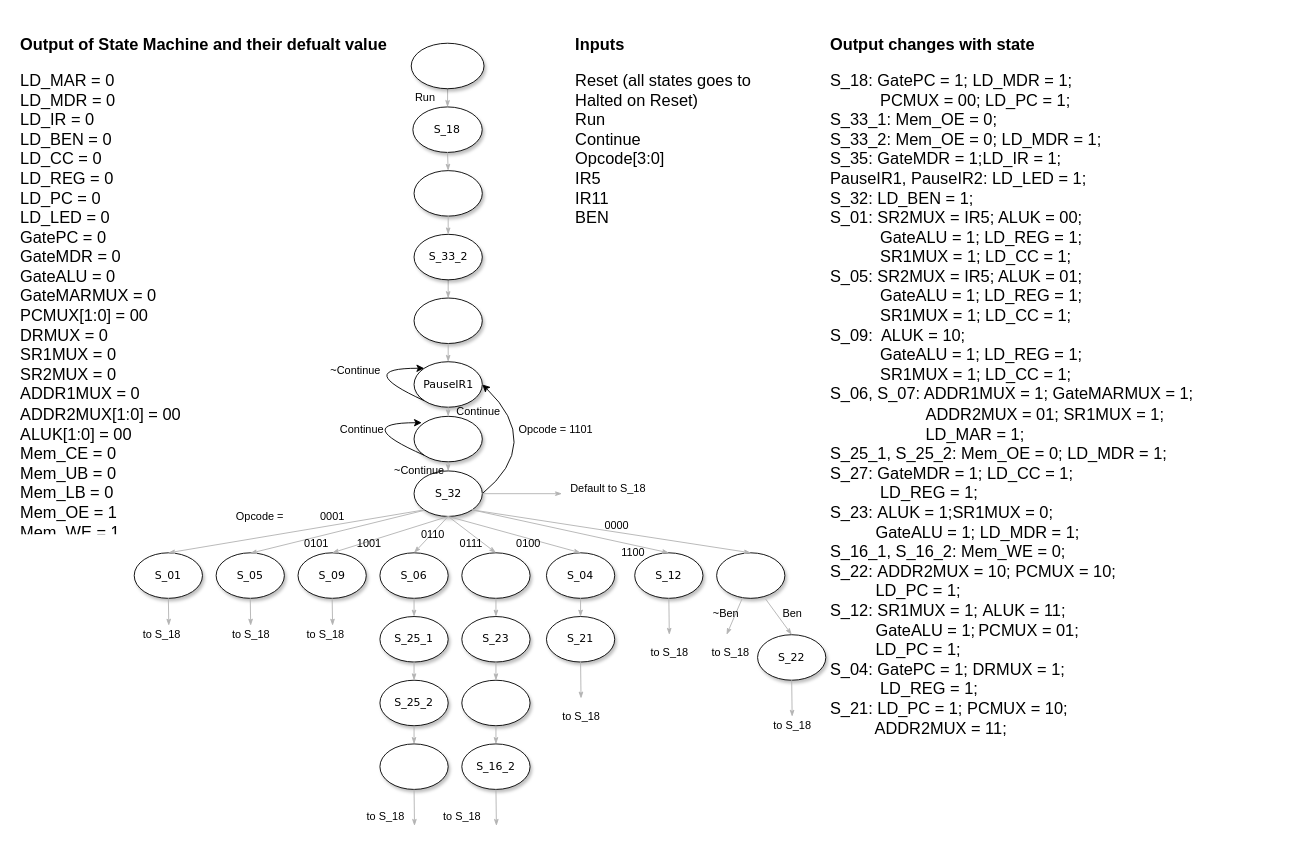
Image size: 1296x848. Some labels were removed from this diagram. The shapes that lost their labels are listed below. From the top down, each one's centre as x and y in pixels, then its label:
the point at 448,67: Halted
the point at 449,194: S_33_1
the point at 449,321: S_35
the point at 449,440: PauseIR2
the point at 496,576: S_07
the point at 751,576: S_00
the point at 496,704: S_16_1
the point at 414,767: S_27
